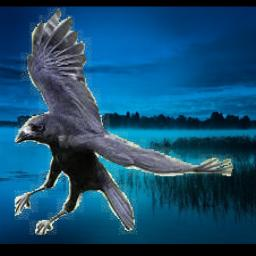Crow: (16, 8, 234, 236)
